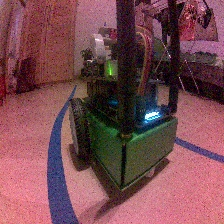rob: (66, 33, 178, 193)
